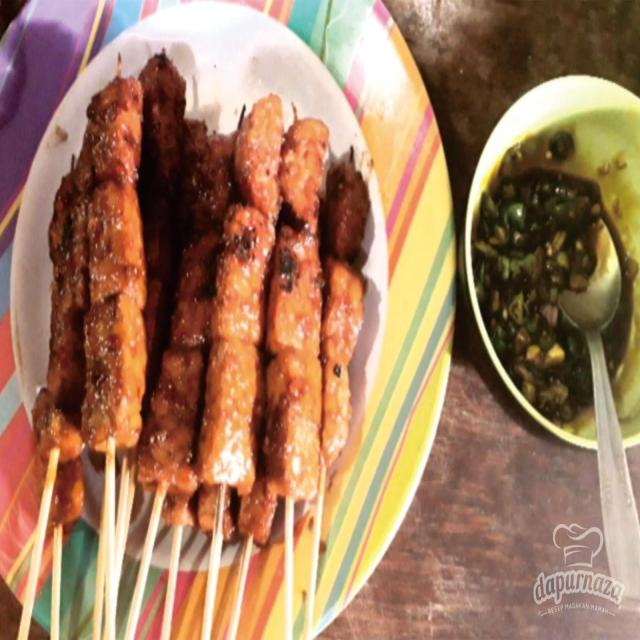Sate: (27, 55, 346, 640)
